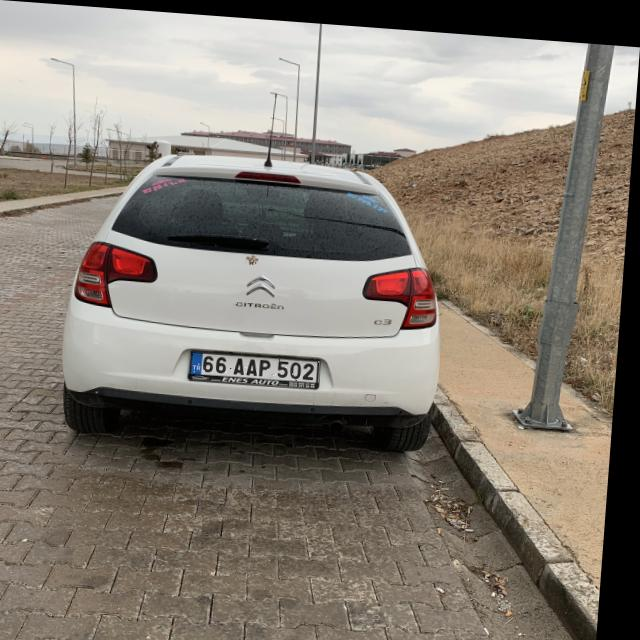license_plate: (194, 347, 325, 379)
